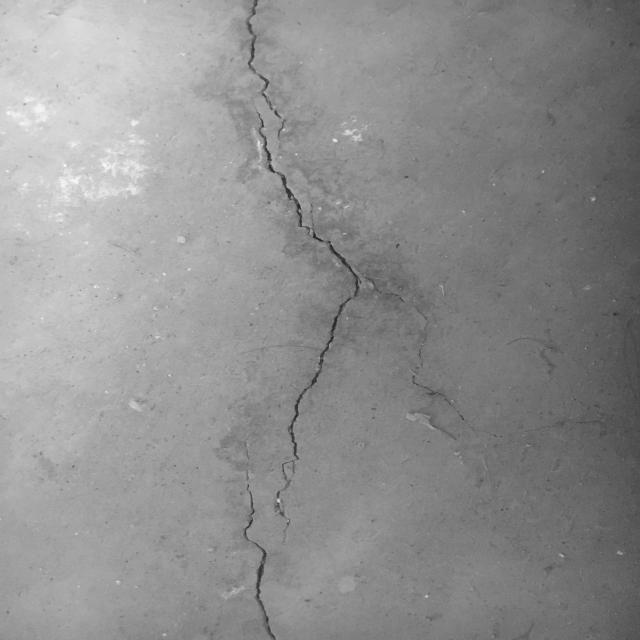SurfaceCrack: (193, 0, 444, 639)
